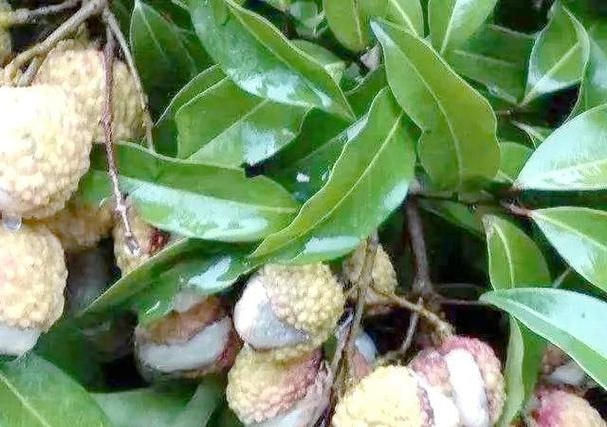Frost_Blight: (0, 43, 126, 296), (118, 233, 354, 364), (320, 331, 496, 400)
